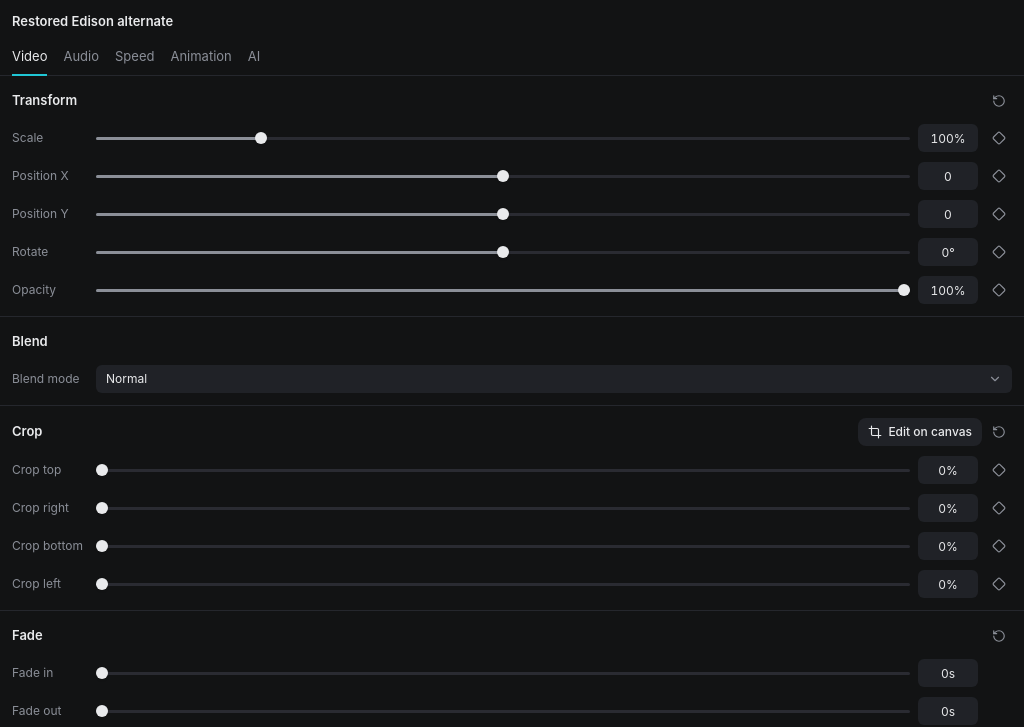
it: clip AI tab › shows the cost and network notice before creating variations, and starts only on confirm
The image size is (1024, 727).
Press the mouse on the tab "AI" at (254, 58), box [248, 40, 260, 76]
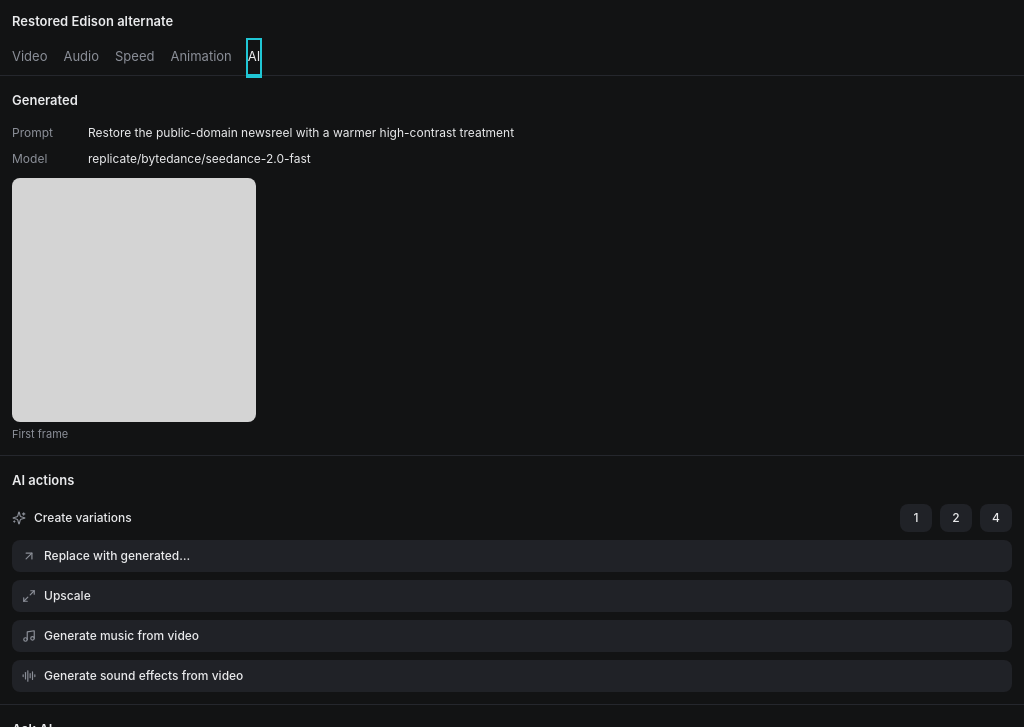
Click the button named "Create 2 variations" at (956, 518), box [940, 504, 972, 532]
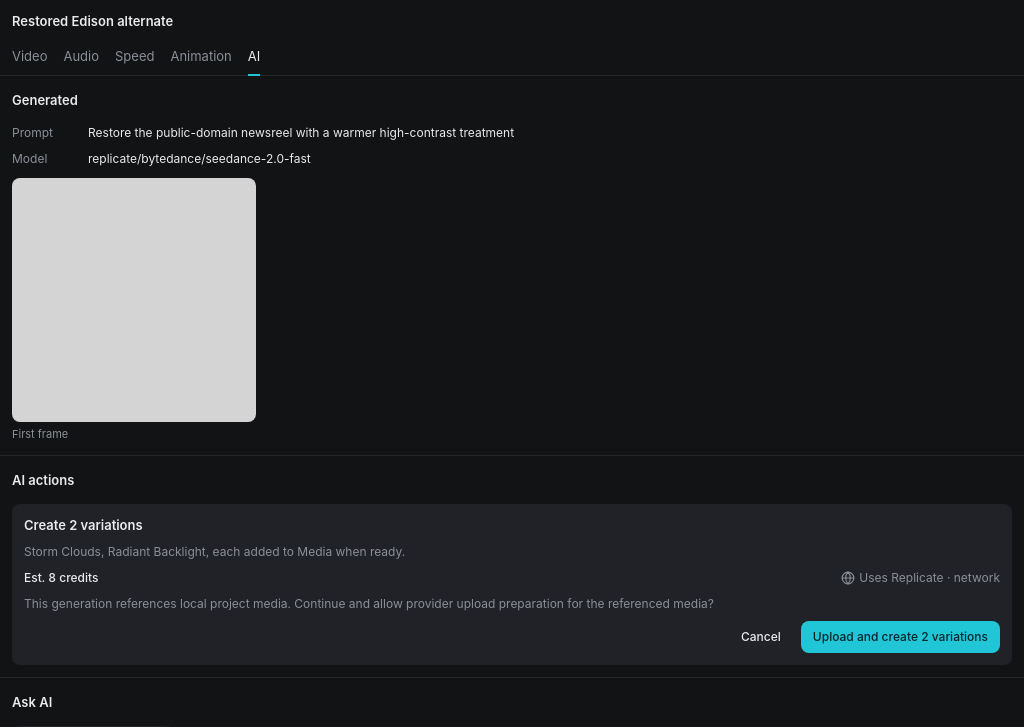
expect the element "Create 2 variations" shows "Storm Clouds, Radiant Backlight, each added to Media when ready.": met, box [24, 544, 405, 559]
expect the element "Create 2 variations" shows "Est. 8 credits": met, box [24, 570, 98, 585]
expect the element "Create 2 variations" shows "Uses Replicate · network": met, box [12, 504, 1012, 665]
Click the button "Upload and create 2 variations" at (900, 637), box [801, 621, 1000, 653]
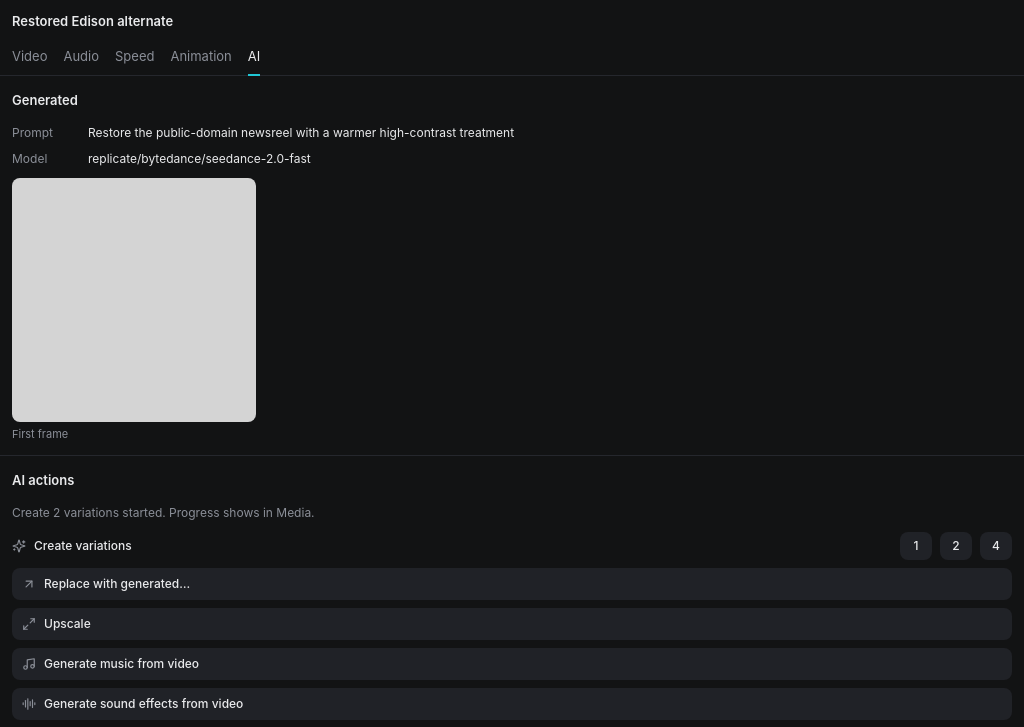
expect the message shows "Create 2 variations started.": met, box [12, 504, 315, 520]
